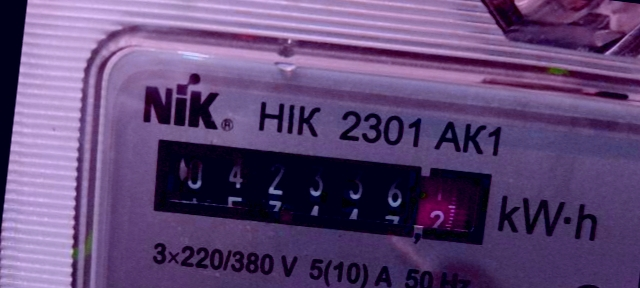0: (183, 153, 207, 190)
1: (431, 172, 448, 202)
2: (264, 158, 288, 196), (425, 206, 447, 229)
3: (305, 159, 328, 199), (343, 163, 367, 201)
4: (225, 150, 248, 189)
6: (382, 170, 407, 208)
screen: (142, 123, 502, 256)
